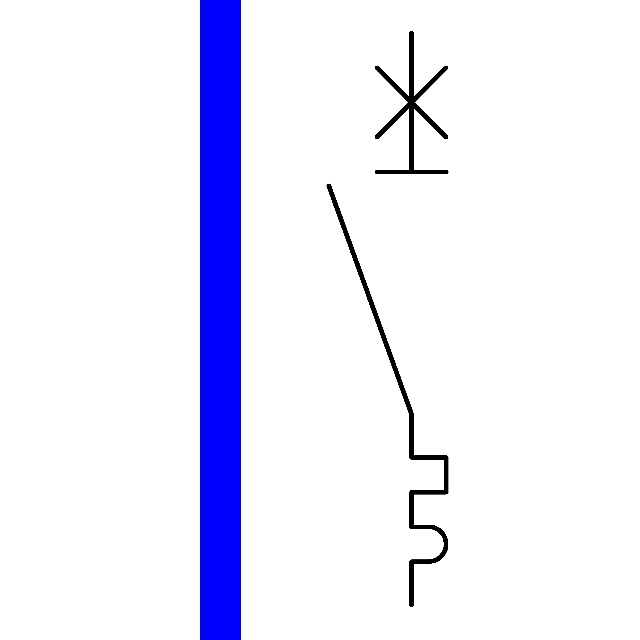interruptor_termomagnetico: (314, 18, 461, 620)
